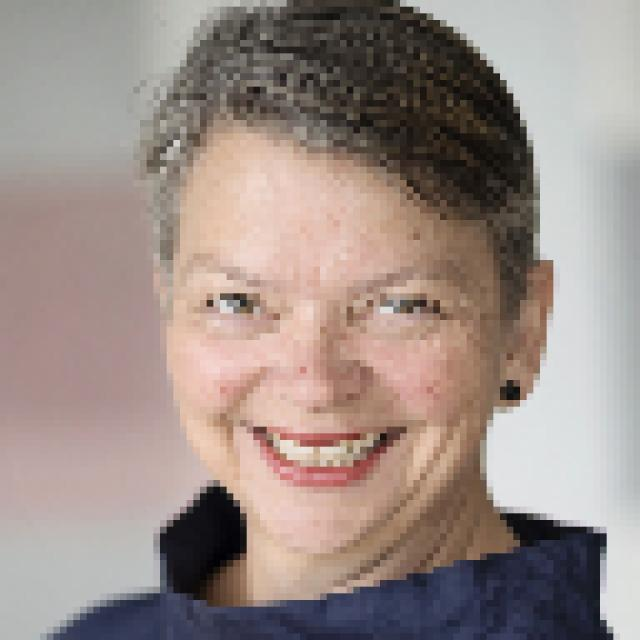happy: (126, 134, 528, 587)
